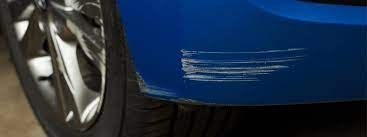scratch: (177, 46, 314, 80)
